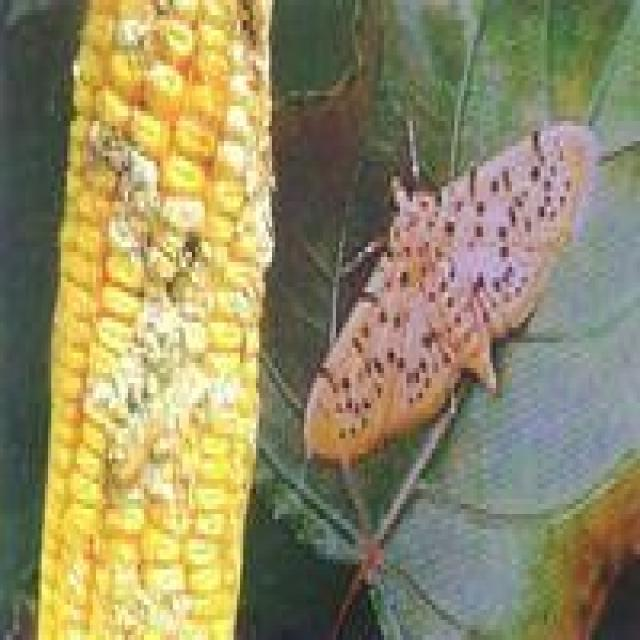peach borer: (294, 117, 617, 470)
